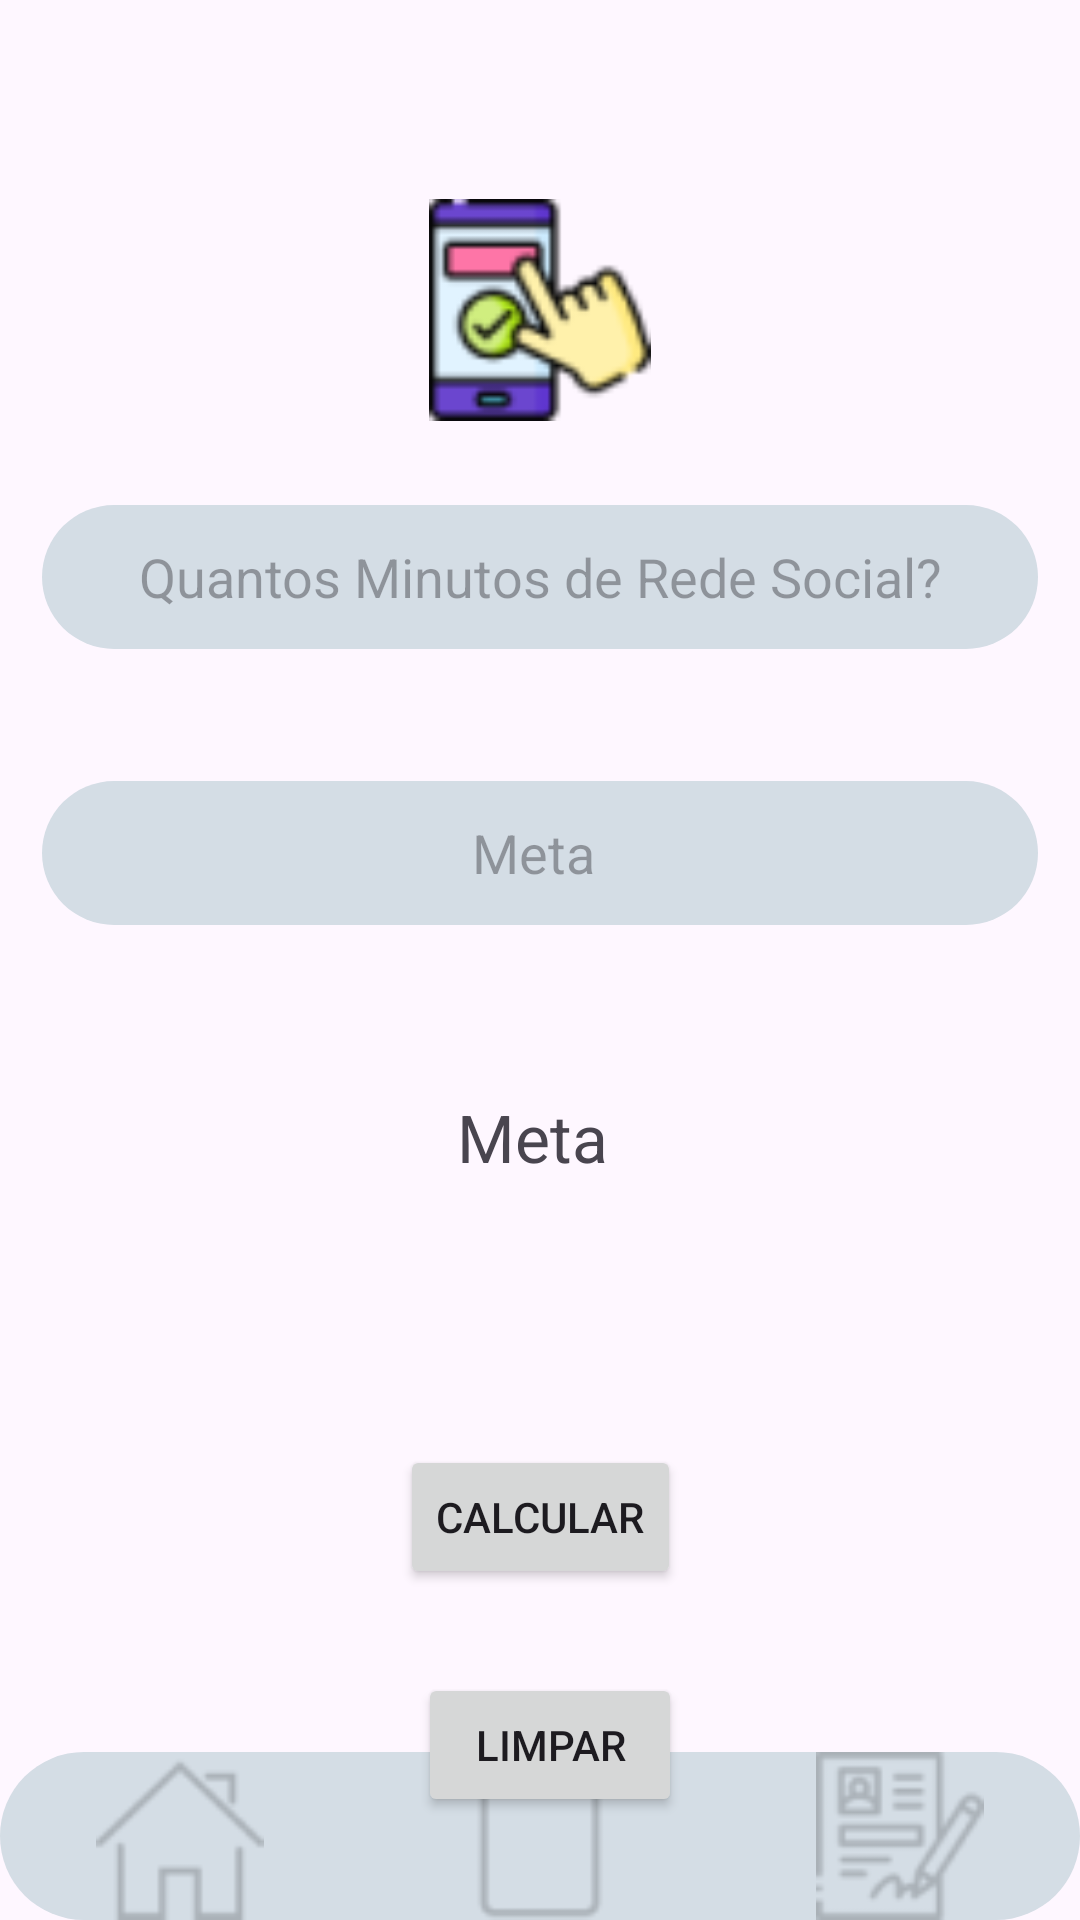

Icon click points for this 1080px x 1920px phone screenshot, format point (x, y):
booking: point (540, 310)
Início: point (180, 1836)
Perfil: point (900, 1836)
